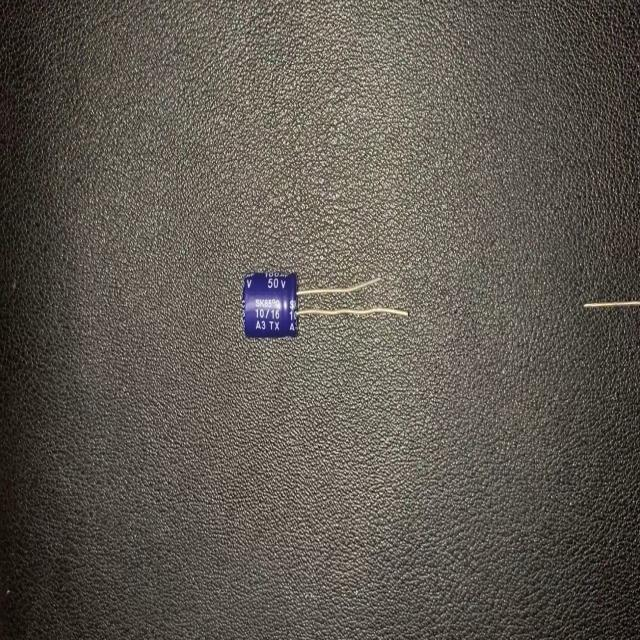capacitor: (242, 268, 411, 340)
